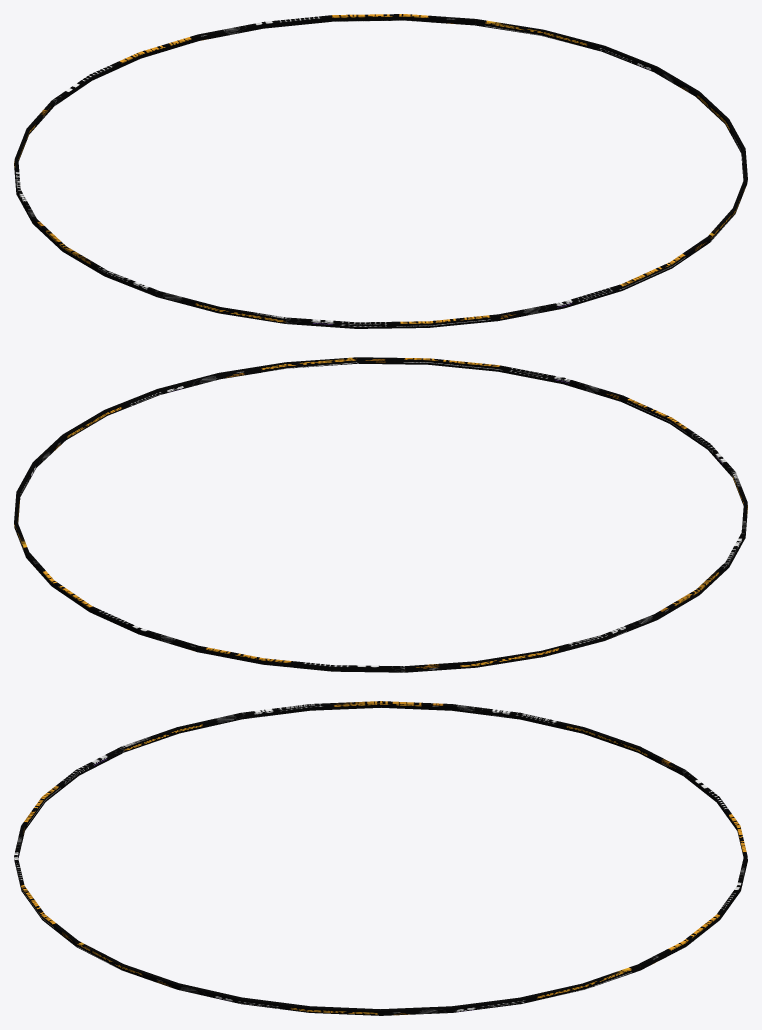
The model's file is Advertise strip-2.fbx.
3 views of the same model, one above another, from view 1: azimuth 30°, elevation 25°; view 2: azimuth 150°, elevation 25°; view 3: azimuth 270°, elevation 25° (orthographic).
Visible parts, largest first — view 1: Circle.012; view 2: Circle.012; view 3: Circle.012.
Boxes of the visible parts, x1=… form: Circle.012: x1=14, y1=14, x2=747, y2=328; Circle.012: x1=14, y1=357, x2=747, y2=672; Circle.012: x1=14, y1=701, x2=747, y2=1015.
Bounding box in the file's own units: 20483 × 185 × 20476.
Materials: 1 (1 with a texture image).
